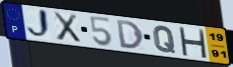5: (88, 15, 114, 48)
D: (115, 19, 146, 51)
H: (178, 26, 209, 59)
J: (25, 8, 53, 40)
Q: (152, 25, 178, 55)
X: (52, 11, 83, 44)
